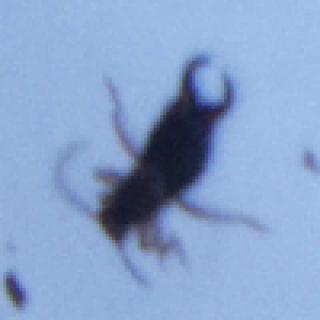earwig: (52, 42, 274, 288)
